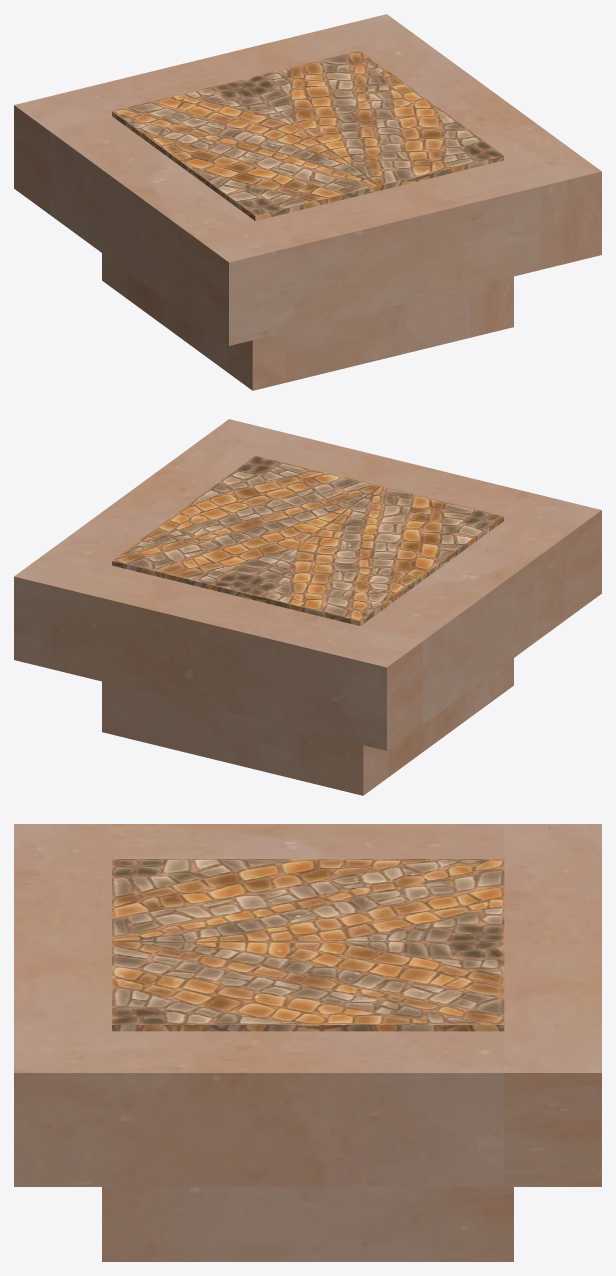
3 renders of one model, top to bottom at view 1: azimuth 30°, elevation 25°; view 2: azimuth 150°, elevation 25°; view 3: azimuth 270°, elevation 25°, orthographic. The views are drawn at different scales.
Visible parts, largest first — view 1: SM_BB_T4_Floor_Small_02_LOD0; view 2: SM_BB_T4_Floor_Small_02_LOD0; view 3: SM_BB_T4_Floor_Small_02_LOD0.
Boxes of the visible parts, x1,y1,x2,y2 form: SM_BB_T4_Floor_Small_02_LOD0: (14, 14, 601, 390); SM_BB_T4_Floor_Small_02_LOD0: (14, 419, 601, 795); SM_BB_T4_Floor_Small_02_LOD0: (14, 824, 601, 1261).
Size of the model in its own units: 1.13 by 0.4913 by 1.12.
Materials: 2 (2 with a texture image).
